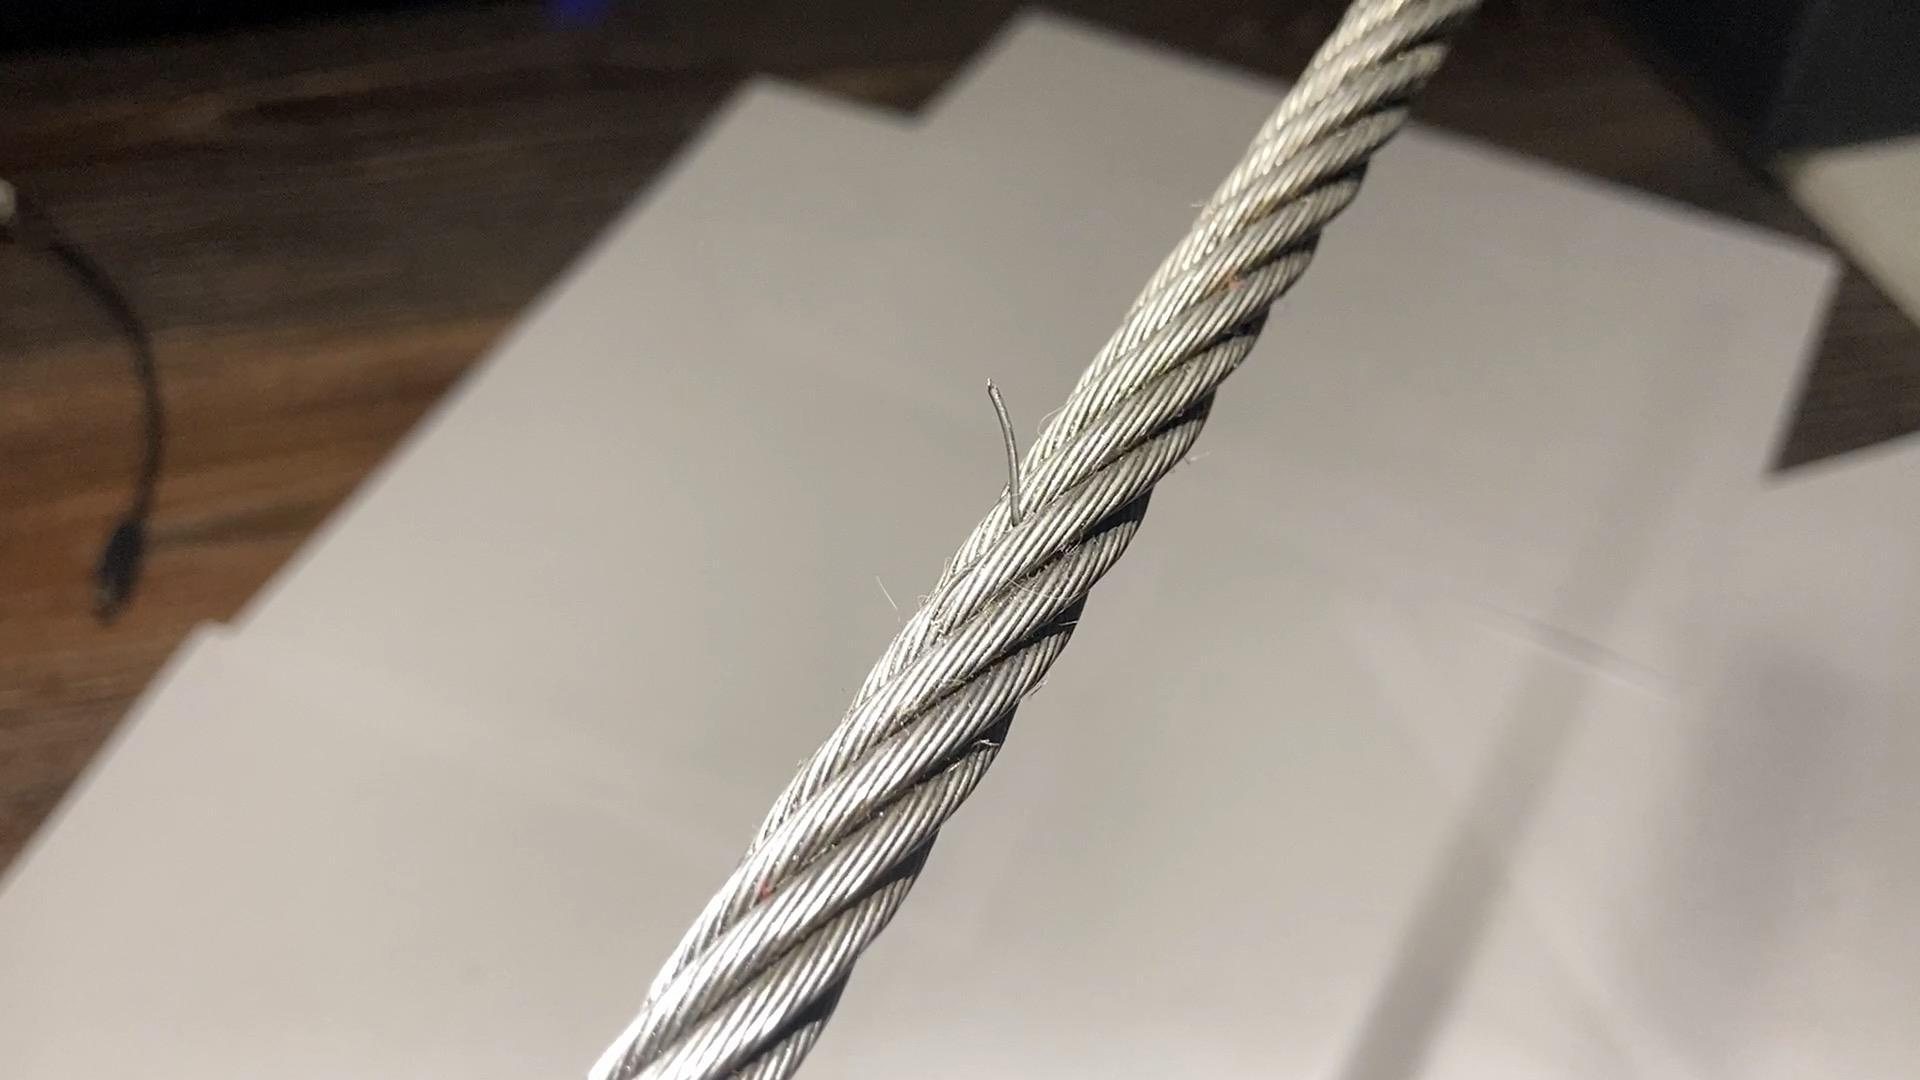break: (957, 367, 1040, 541)
